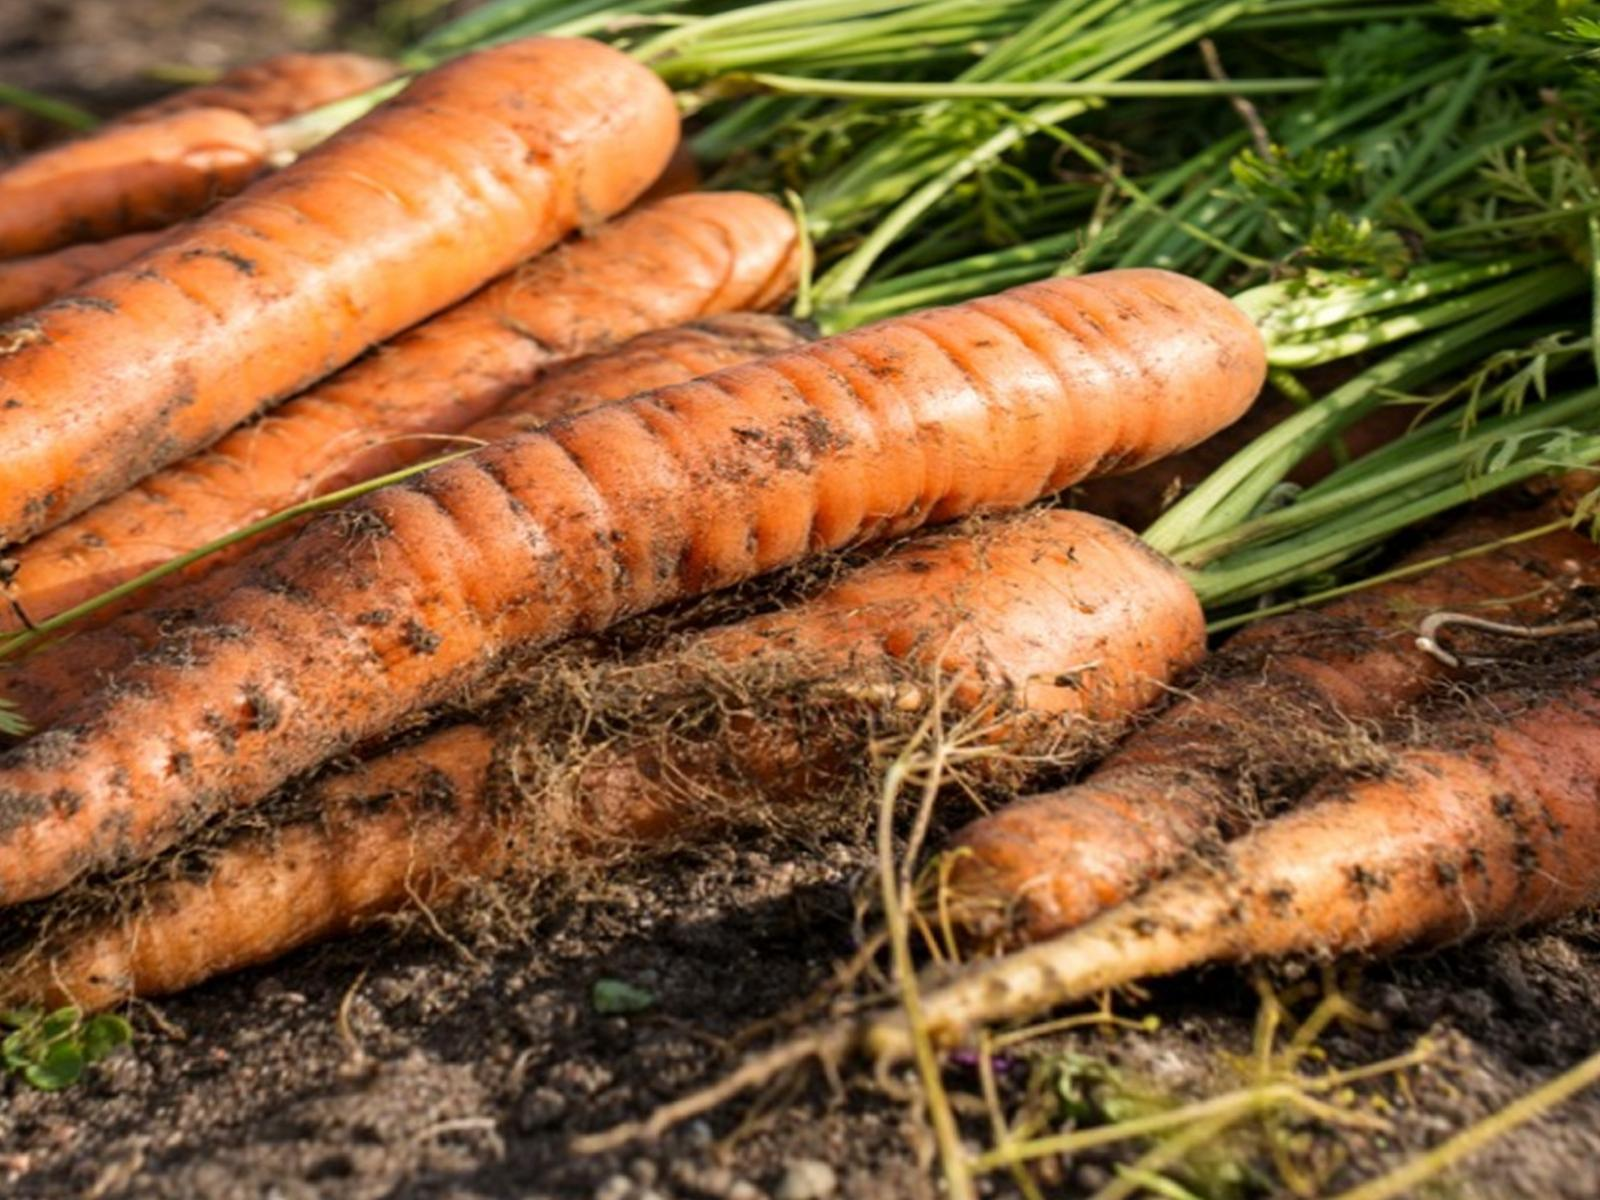carrot: (55, 287, 1600, 1070), (21, 72, 1286, 914)
